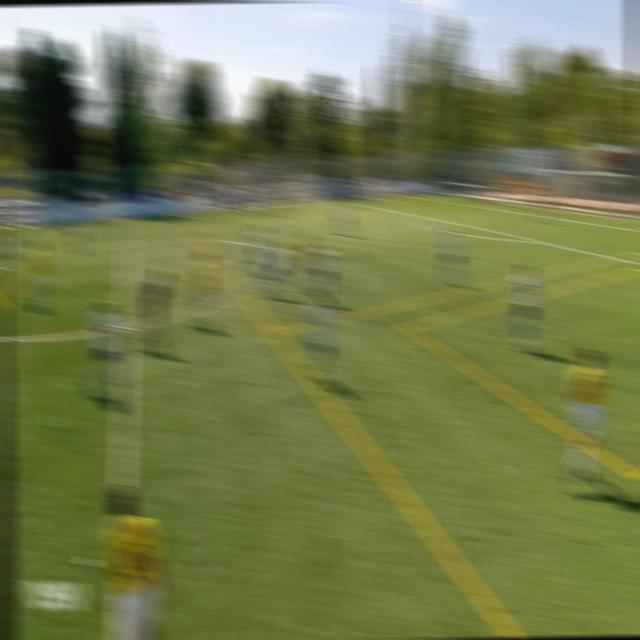bigarea_top_inner: (352, 199, 367, 208)
bigarea_top_outter: (445, 192, 457, 200)
bottom_arc_area_intersection: (527, 236, 546, 246)
halfcircle_bottom: (113, 311, 138, 343)
halfcircle_top: (118, 235, 136, 253)
midline_top_intersection: (120, 214, 135, 223)
smallarea_top_inner: (473, 202, 490, 212)
smallarea_top_outter: (501, 200, 520, 207)
top_arc_area_intersection: (409, 209, 426, 223)
